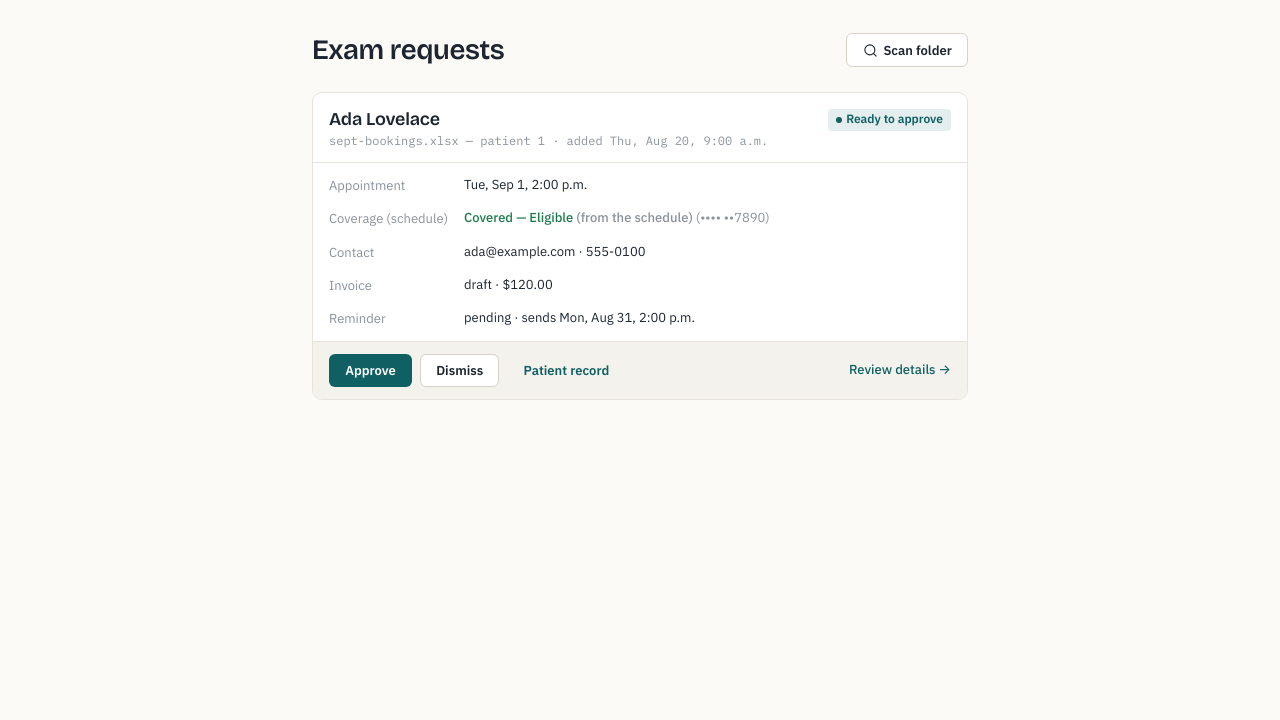
Test: Inbox › invoice editing › offers to edit while the invoice is still a draft
Check: the heading "Ada Lovelace" is shown, box [329, 108, 440, 130]
Click the button "Review details →".
click(900, 370)  # box [849, 360, 951, 380]
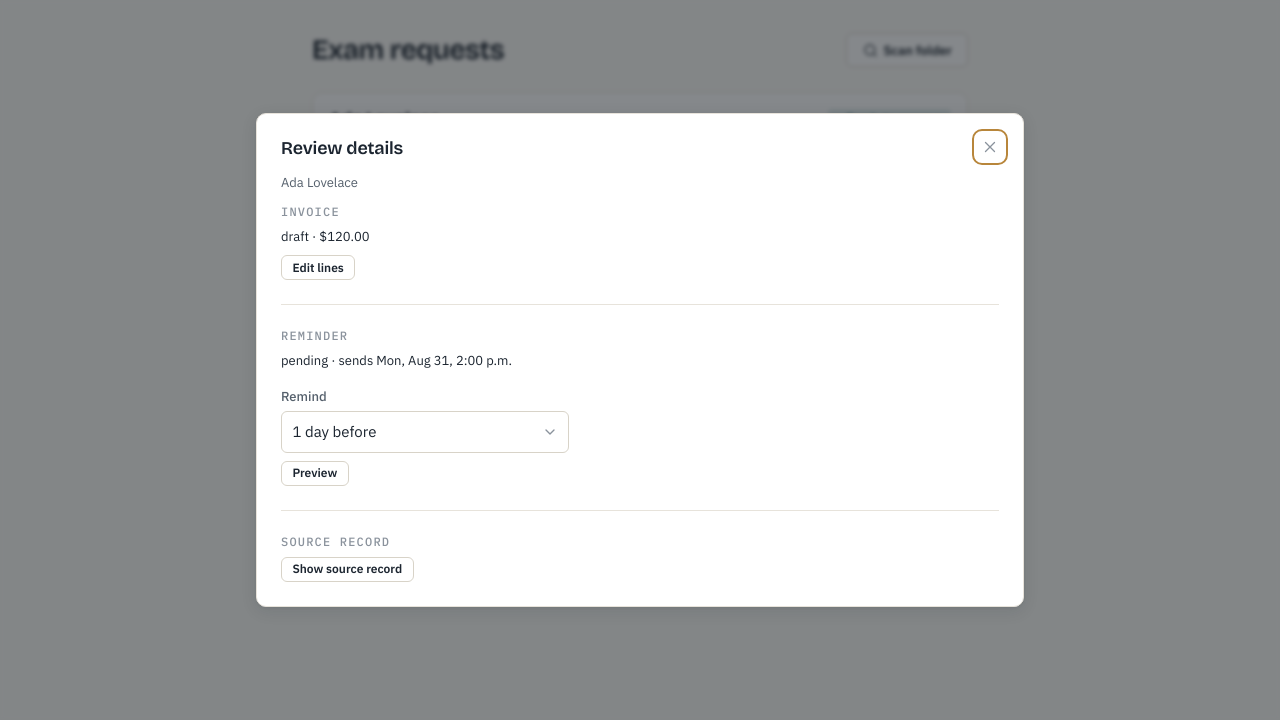
Check: the button "Edit lines" is shown, box [281, 255, 355, 280]
